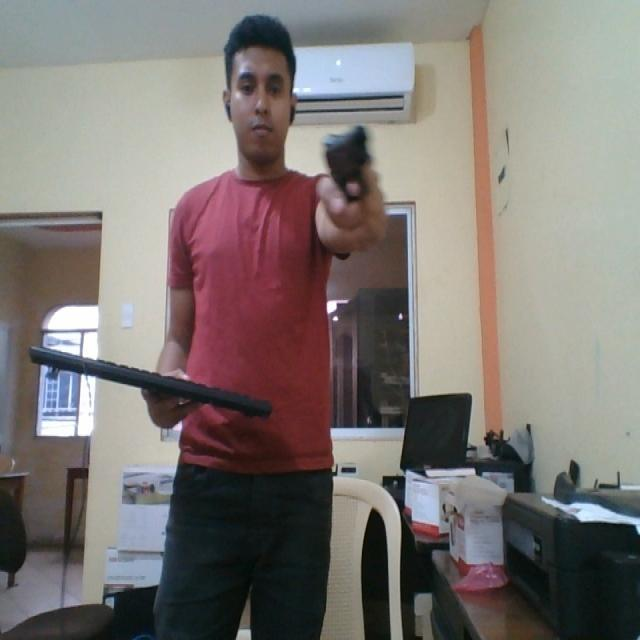weapon: (320, 120, 375, 202)
